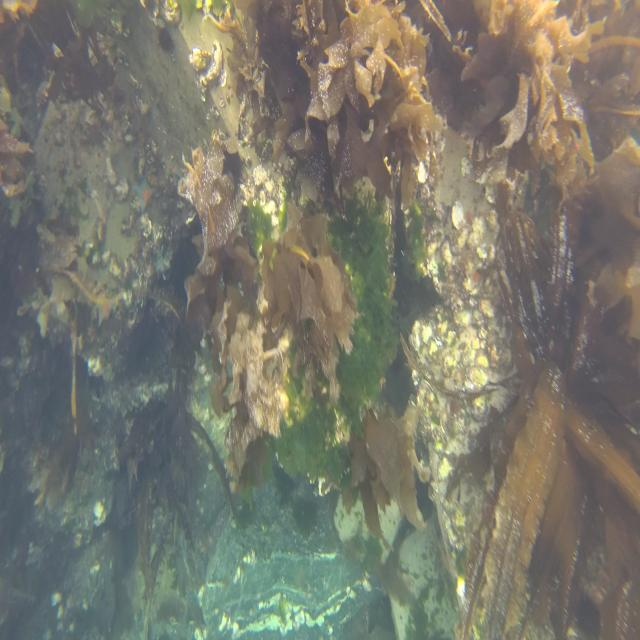echinus: (573, 590, 602, 640), (221, 148, 244, 199), (159, 28, 173, 54)
starfish: (133, 173, 156, 214), (95, 289, 114, 327)
